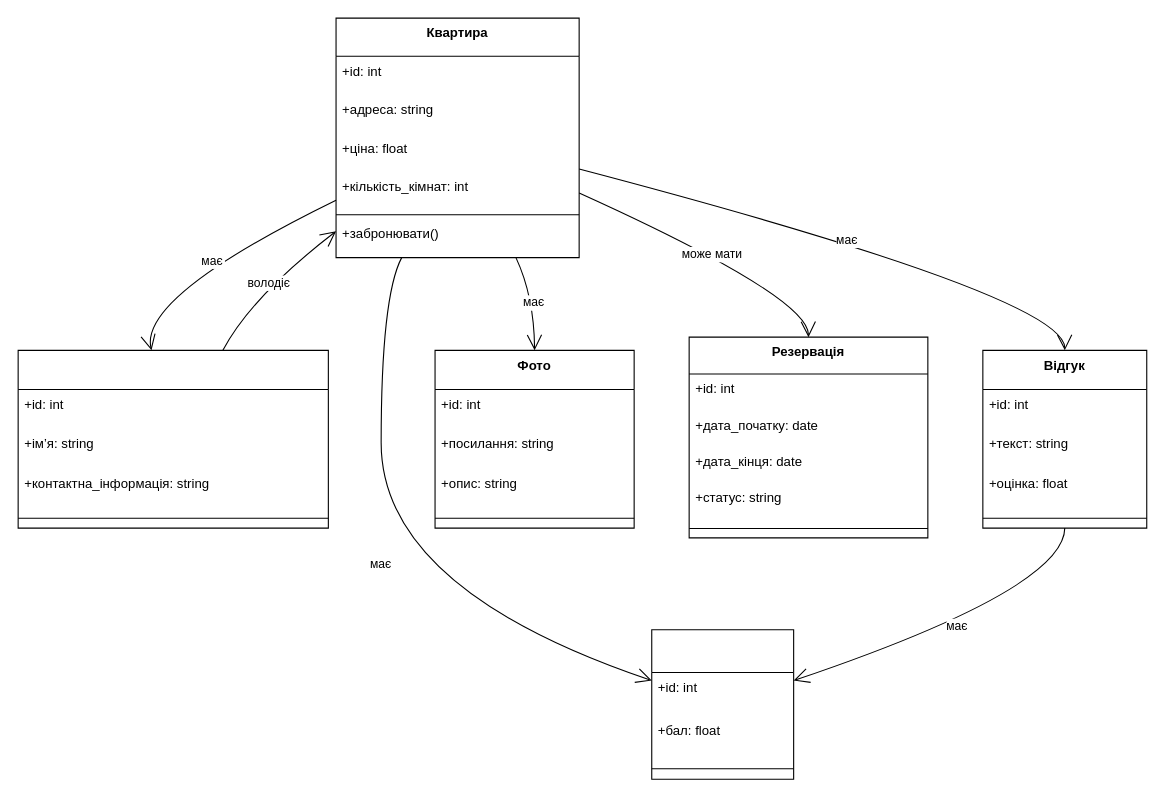
Image size: 1165x798. Some labels were removed from this diagram. Each missing label, with the box of its shape:
Власник: (17, 349, 328, 528)
Оцінка: (651, 629, 794, 779)
